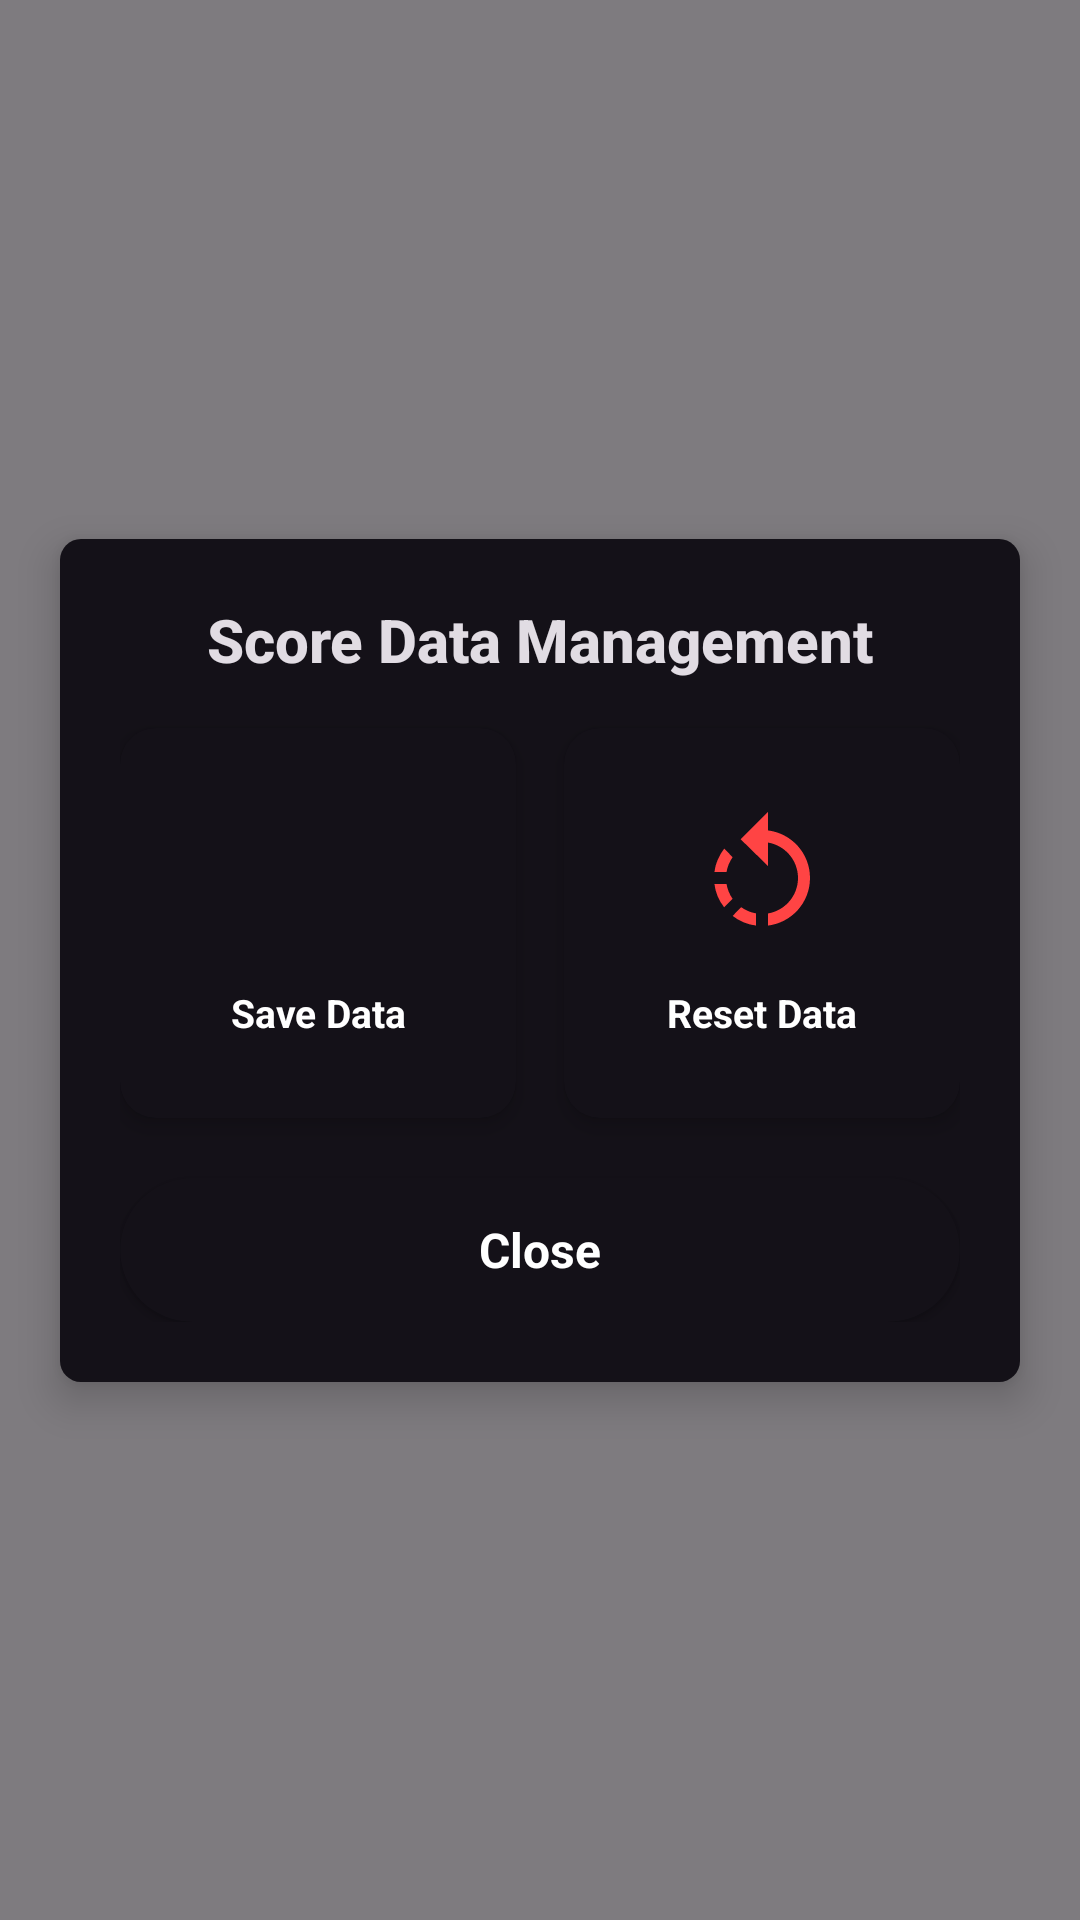

Icons on this 1080 x 1920 Android screen, each with the point to tap as (x,y):
rotate left: (762,869)
